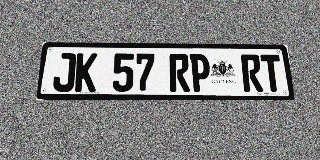5: (113, 53, 134, 92)
7: (134, 53, 155, 92)
J: (52, 53, 76, 92)
K: (74, 53, 98, 92)
P: (189, 54, 211, 92)
R: (241, 54, 263, 92), (169, 54, 190, 92)
T: (260, 54, 284, 92)
